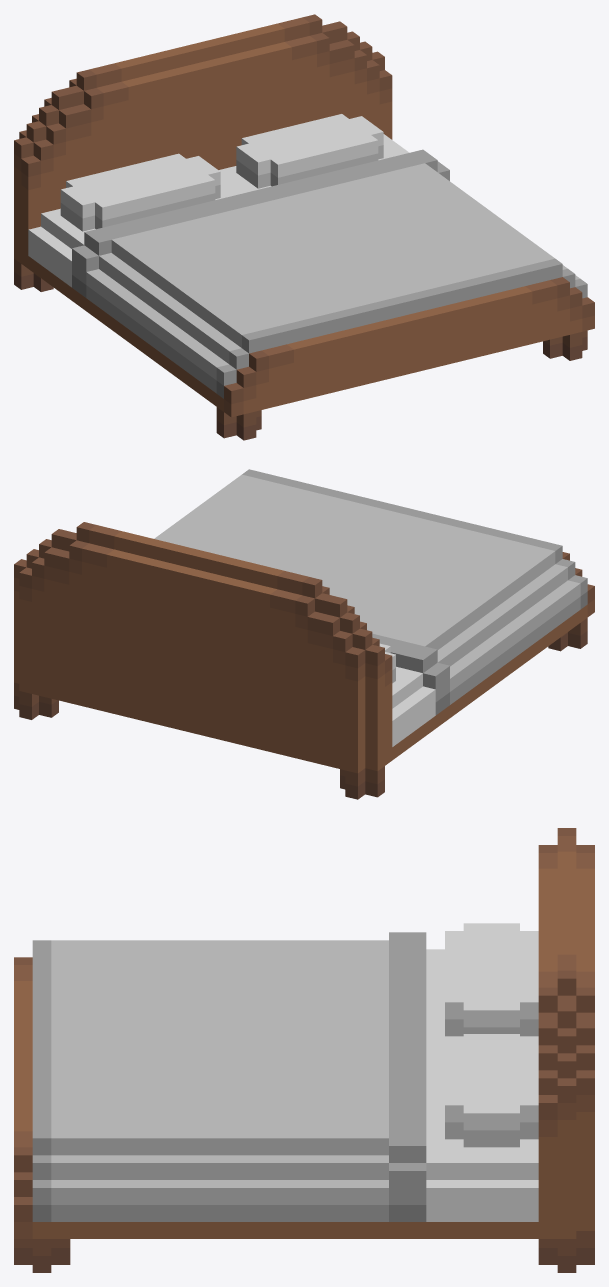
Rendered from Interior_Furniture-73.obj.
3 views of the same model, one above another, from view 1: azimuth 30°, elevation 25°; view 2: azimuth 150°, elevation 25°; view 3: azimuth 270°, elevation 25° (orthographic). The views are drawn at different scales.
Size of the model in its own units: 2.9 by 1.5 by 3.1.
Materials: 1 (1 with a texture image).
